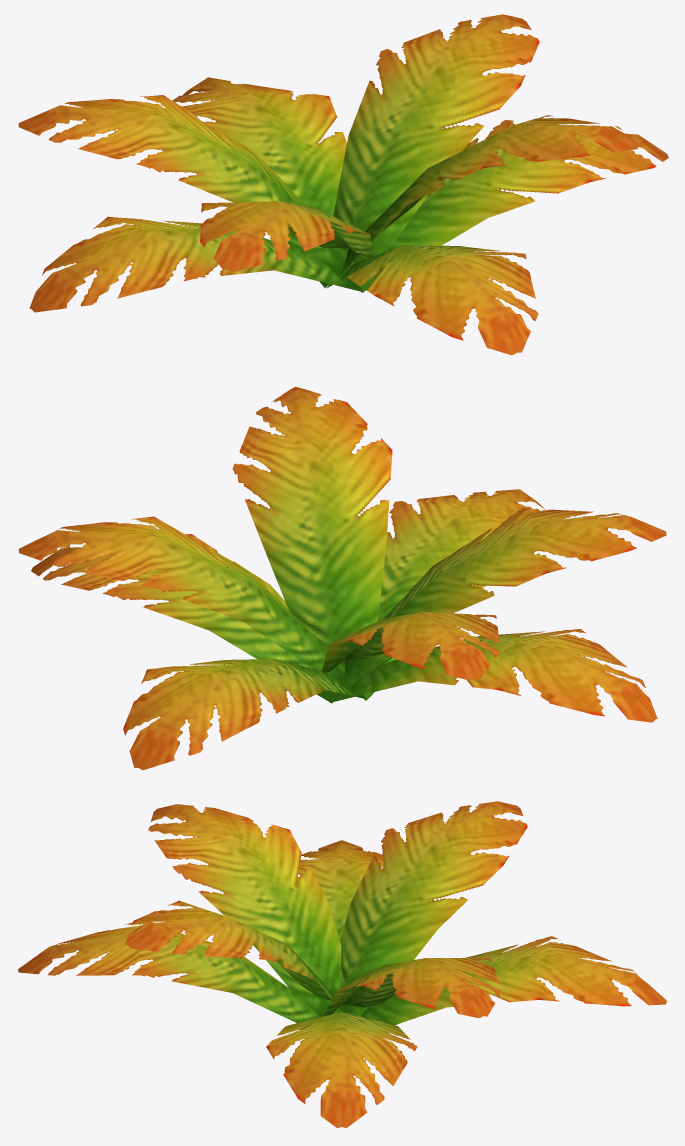
The model's file is F01_plant05.FBX.
The picture shows the model from 3 angles, top to bottom: view 1: azimuth 30°, elevation 25°; view 2: azimuth 150°, elevation 25°; view 3: azimuth 270°, elevation 25°; orthographic projection. The views are drawn at different scales.
Visible parts, largest first — view 1: F01_plant05; view 2: F01_plant05; view 3: F01_plant05.
Boxes of the visible parts, box(x1,y1,x2,y2) form: F01_plant05: box(18, 14, 668, 355); F01_plant05: box(18, 386, 666, 770); F01_plant05: box(18, 801, 666, 1127).
Bounding box in the file's own units: 224 × 65.82 × 223.
